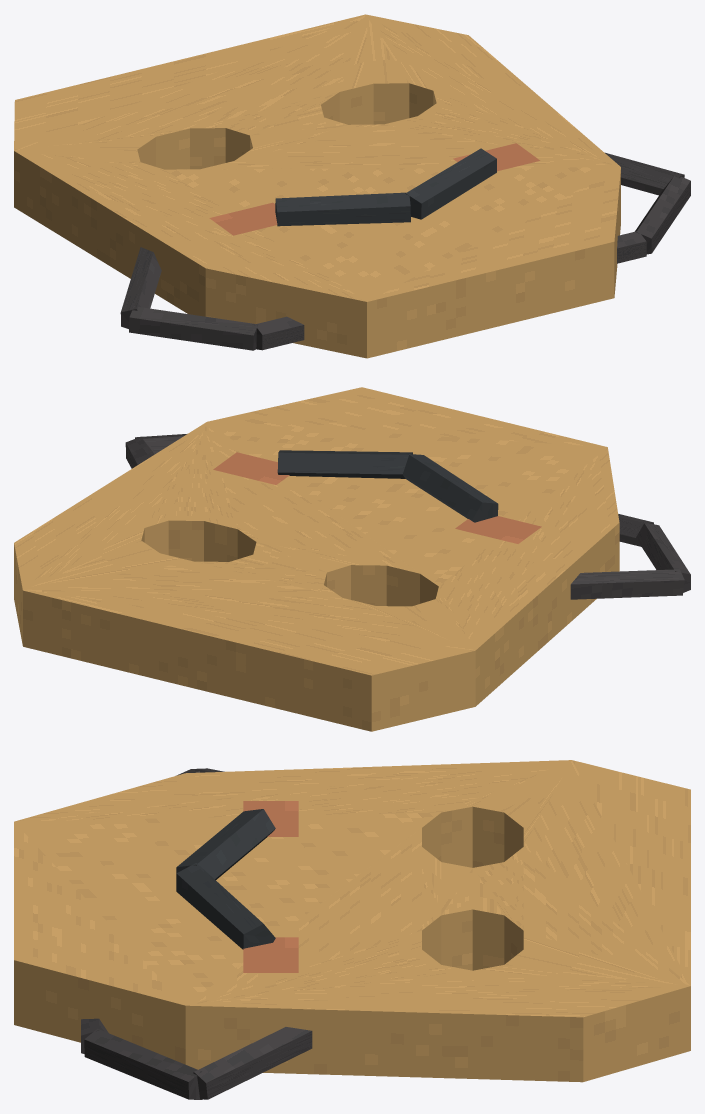
Rendered from foodperson_mask.glb.
The picture shows the model from 3 angles, top to bottom: view 1: azimuth 30°, elevation 25°; view 2: azimuth 150°, elevation 25°; view 3: azimuth 270°, elevation 25°; orthographic projection. The views are drawn at different scales.
Visible parts, largest first — view 1: block_molded character mask, block_smiling mascot mouth 0, block_mask tie 1, block_smiling mascot mouth 1, block_mascot cheek (×2), block_mask tie 2, block_mask tie 3, block_mask tie 0, block_mask tie 4; view 2: block_molded character mask, block_smiling mascot mouth 1, block_mask tie 0, block_smiling mascot mouth 0, block_mascot cheek (×2), block_mask tie 1, block_mask tie 2, block_mask tie 4; view 3: block_molded character mask, block_mask tie 4, block_mask tie 3, block_smiling mascot mouth 1, block_smiling mascot mouth 0, block_mascot cheek (×2).
Boxes of the visible parts, box(x1,y1,x2,y2) form: block_molded character mask: box(14, 14, 620, 358); block_smiling mascot mouth 0: box(275, 192, 410, 226); block_mask tie 1: box(129, 306, 258, 350); block_smiling mascot mouth 1: box(405, 148, 496, 219); block_mascot cheek (×2): box(209, 143, 540, 235); block_mask tie 2: box(254, 231, 646, 350); block_mask tie 3: box(635, 174, 690, 254); block_mask tie 0: box(120, 247, 161, 328); block_mask tie 4: box(605, 152, 684, 195); block_molded character mask: box(14, 387, 619, 731); block_smiling mascot mouth 1: box(277, 450, 412, 478); block_mask tie 0: box(570, 569, 684, 599); block_smiling mascot mouth 0: box(402, 454, 498, 522); block_mascot cheek (×2): box(213, 452, 541, 543); block_mask tie 1: box(636, 522, 690, 595); block_mask tie 2: box(618, 514, 653, 546); block_mask tie 4: box(125, 436, 154, 468); block_molded character mask: box(14, 760, 690, 1082); block_mask tie 4: box(193, 1027, 312, 1099); block_mask tie 3: box(84, 1028, 202, 1099); block_smiling mascot mouth 1: box(176, 863, 275, 949); block_smiling mascot mouth 0: box(176, 809, 275, 879); block_mascot cheek (×2): box(243, 801, 298, 972).
Size of the model in its own units: 0.6048 by 0.0803 by 0.5485.
1 material, 1 textured.
